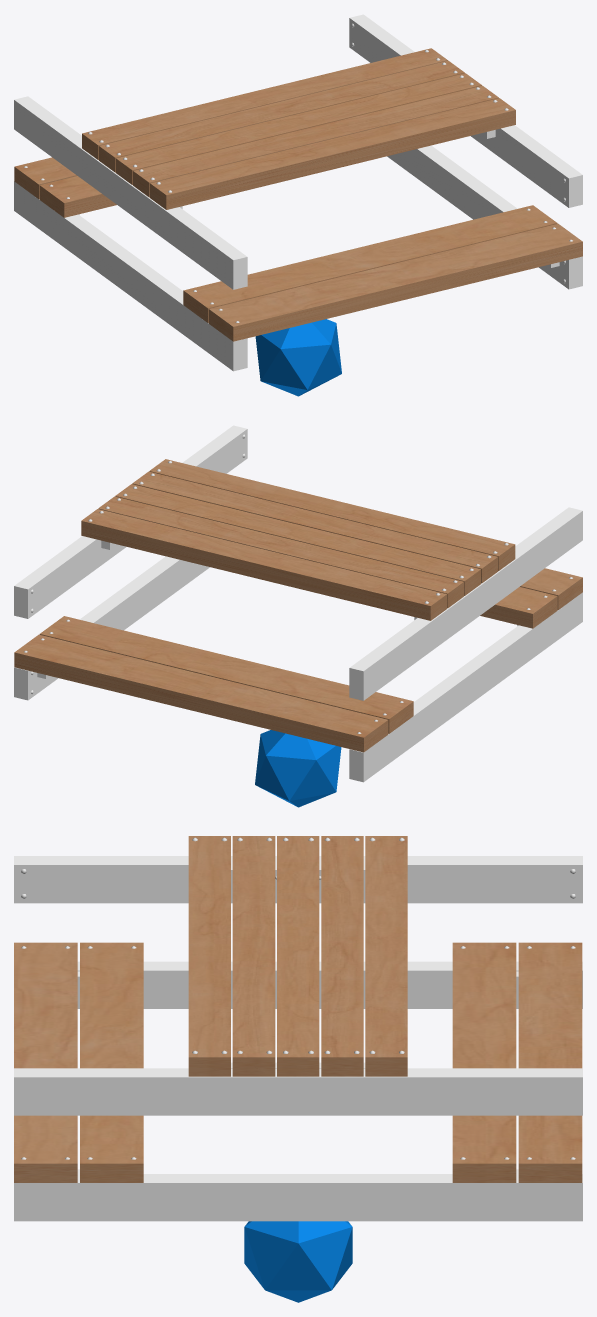
The model's file is Picnic table.glb.
3 renders of one model, top to bottom at view 1: azimuth 30°, elevation 25°; view 2: azimuth 150°, elevation 25°; view 3: azimuth 270°, elevation 25°, orthographic. The views are drawn at different scales.
Parts seen in each view (by area): view 1: Icosphere.002, Joint.029; view 2: Icosphere.002, Joint.029; view 3: Icosphere.002, Joint.029.
Boxes of the visible parts, x1,y1,x2,y2 form: Icosphere.002: [14, 14, 582, 371]; Joint.029: [255, 319, 341, 396]; Icosphere.002: [14, 425, 582, 782]; Joint.029: [255, 730, 341, 807]; Icosphere.002: [14, 836, 582, 1221]; Joint.029: [244, 1221, 352, 1302].
Bounding box in the file's own units: 1.26 × 0.9488 × 1.36.
Materials: 4 (1 with a texture image).
